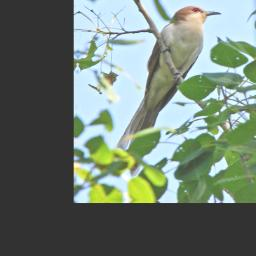Cuckoo: (112, 3, 222, 179)
